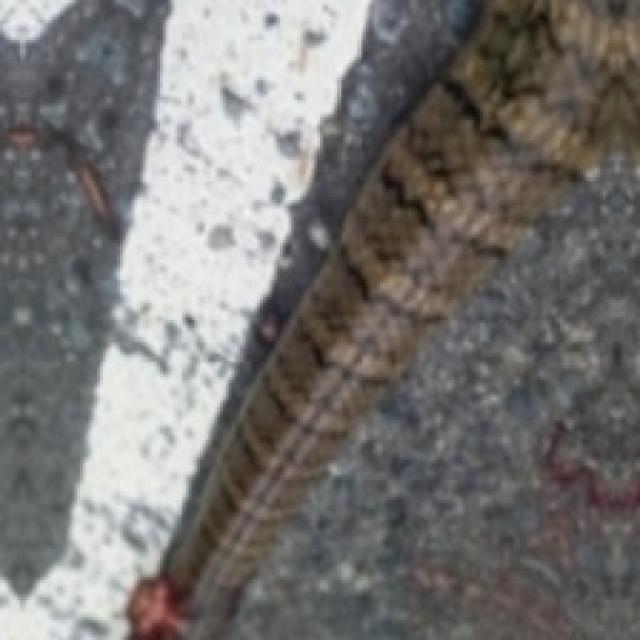king cobra: (134, 0, 637, 637)
